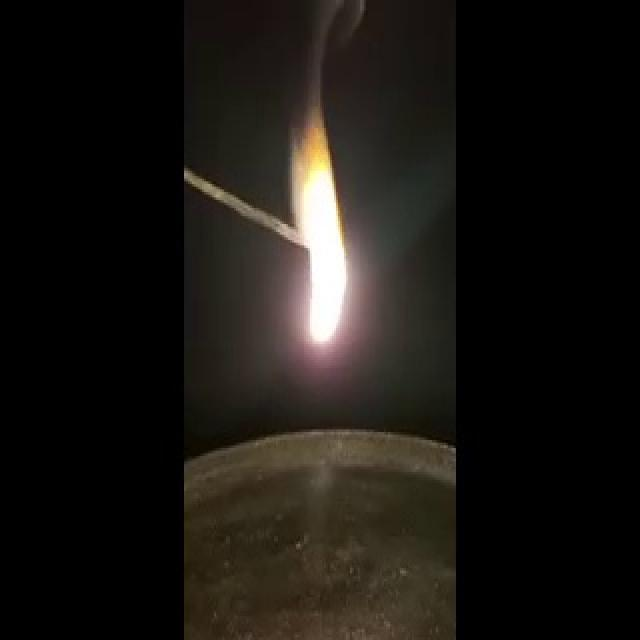fire: (274, 100, 356, 362)
